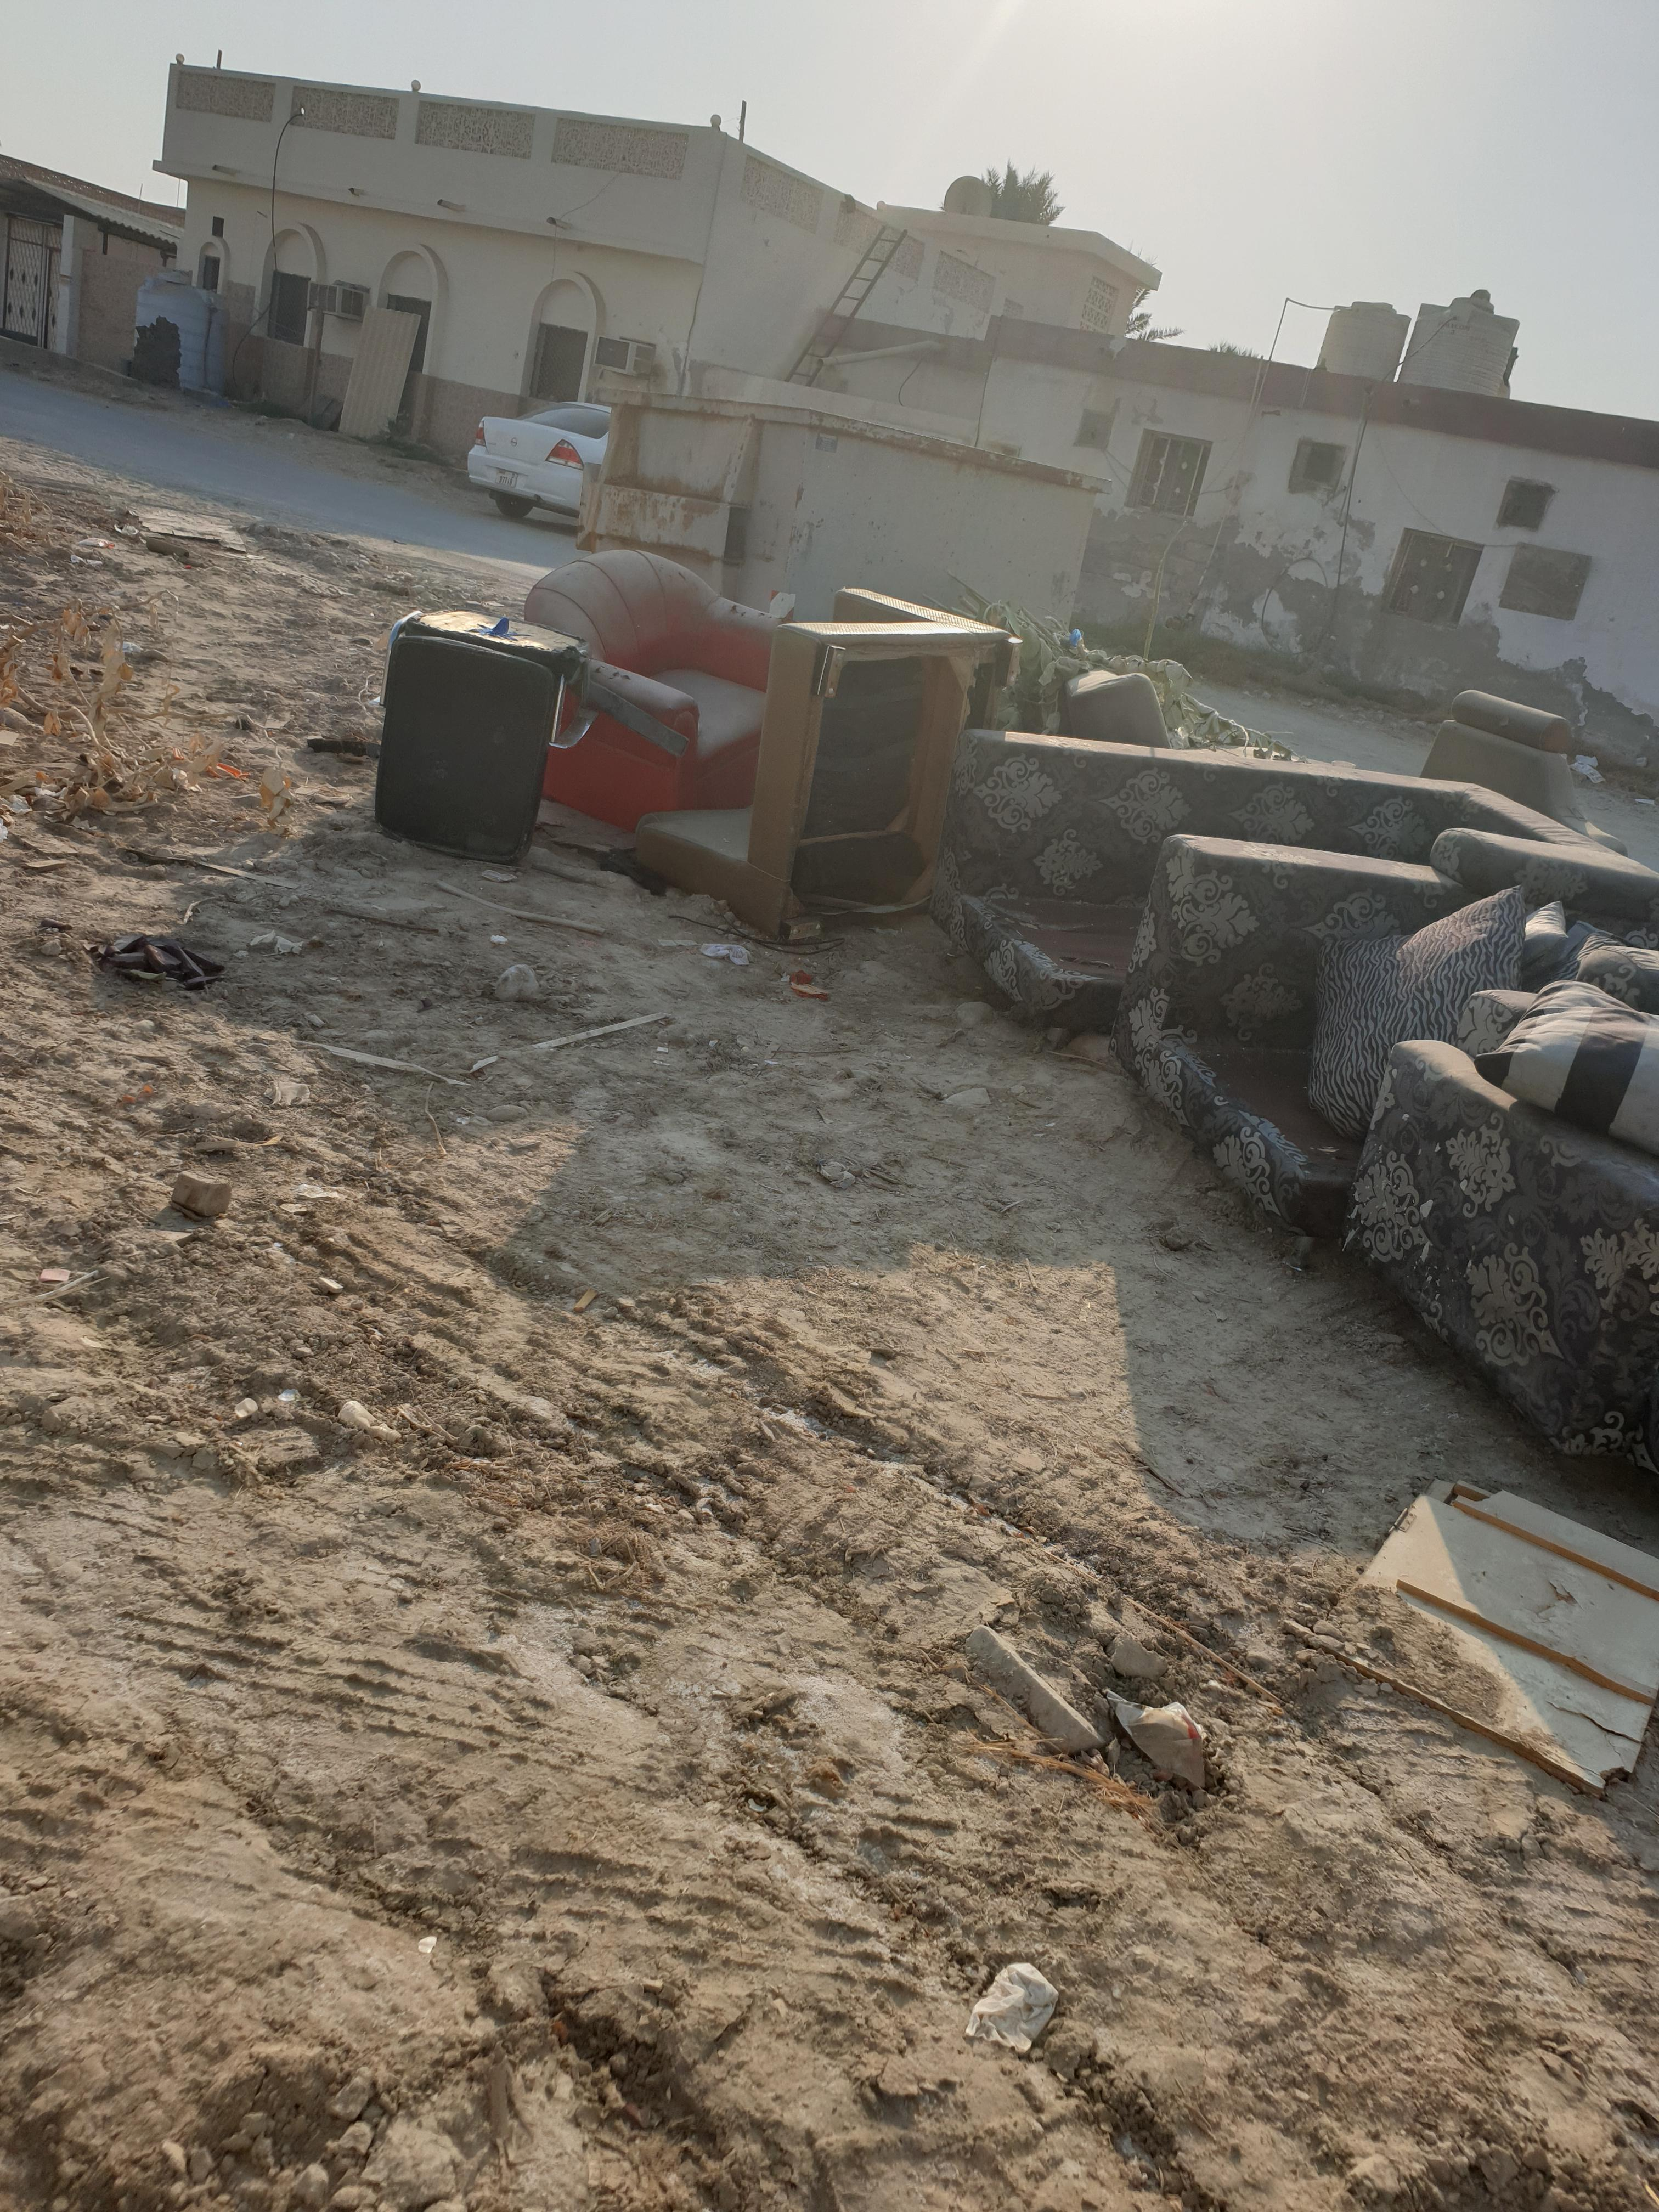uncollected_waste: (615, 787, 1589, 1268), (788, 794, 1500, 1346), (1223, 705, 1659, 1446), (1093, 902, 1659, 1451), (314, 610, 972, 1001)
